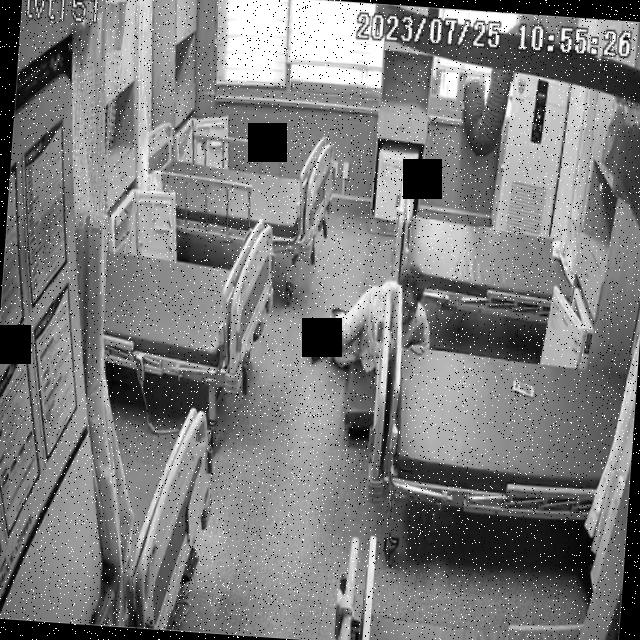bed: (384, 332, 630, 522), (97, 208, 281, 397), (140, 121, 334, 255), (390, 189, 578, 322)
fall: (308, 259, 434, 375)
patient: (308, 257, 436, 374)
